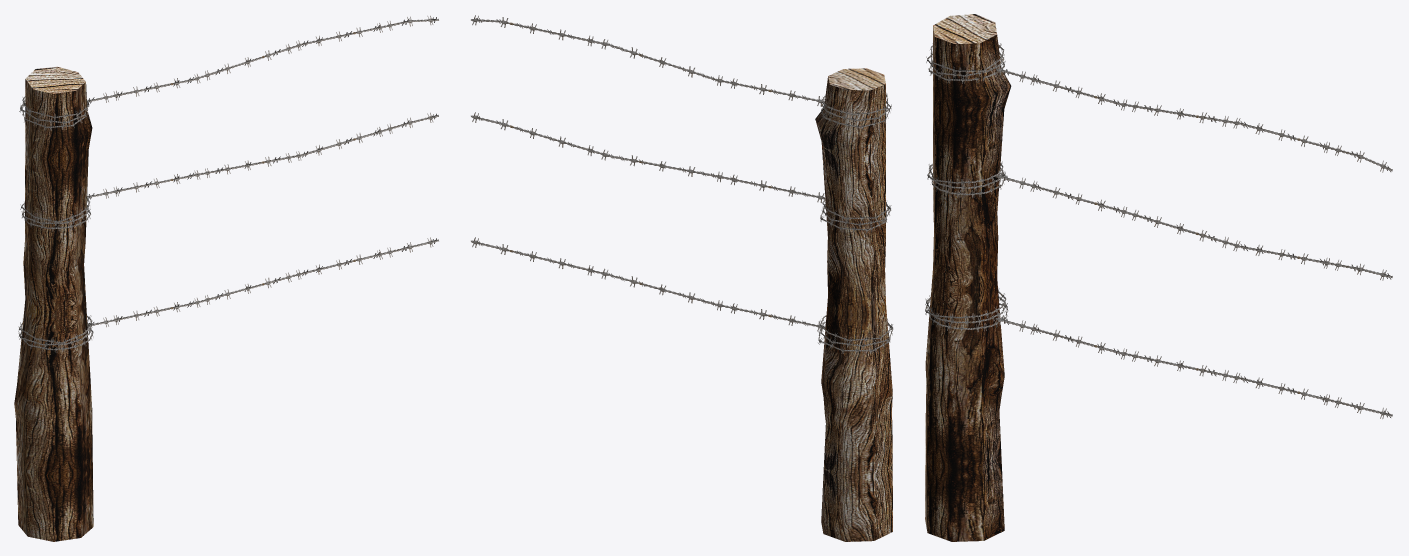
File: HortaCercaEarame.fbx
3 views of the same model, side by side, from view 1: azimuth 30°, elevation 25°; view 2: azimuth 150°, elevation 25°; view 3: azimuth 330°, elevation 25° (orthographic). The views are drawn at different scales.
Visible parts, largest first — view 1: PilarCerca02, ArameFarpado19; view 2: PilarCerca02, ArameFarpado19; view 3: PilarCerca02, ArameFarpado19.
Part boxes in pixels (left/top/right/bottom): PilarCerca02: left=14, top=66, right=93, bottom=541; ArameFarpado19: left=18, top=15, right=438, bottom=352; PilarCerca02: left=815, top=68, right=892, bottom=541; ArameFarpado19: left=471, top=15, right=893, bottom=354; PilarCerca02: left=925, top=14, right=1011, bottom=541; ArameFarpado19: left=925, top=43, right=1392, bottom=419.
Size of the model in its own units: 179 by 183 by 28.84.
Materials: 2 (2 with a texture image).
